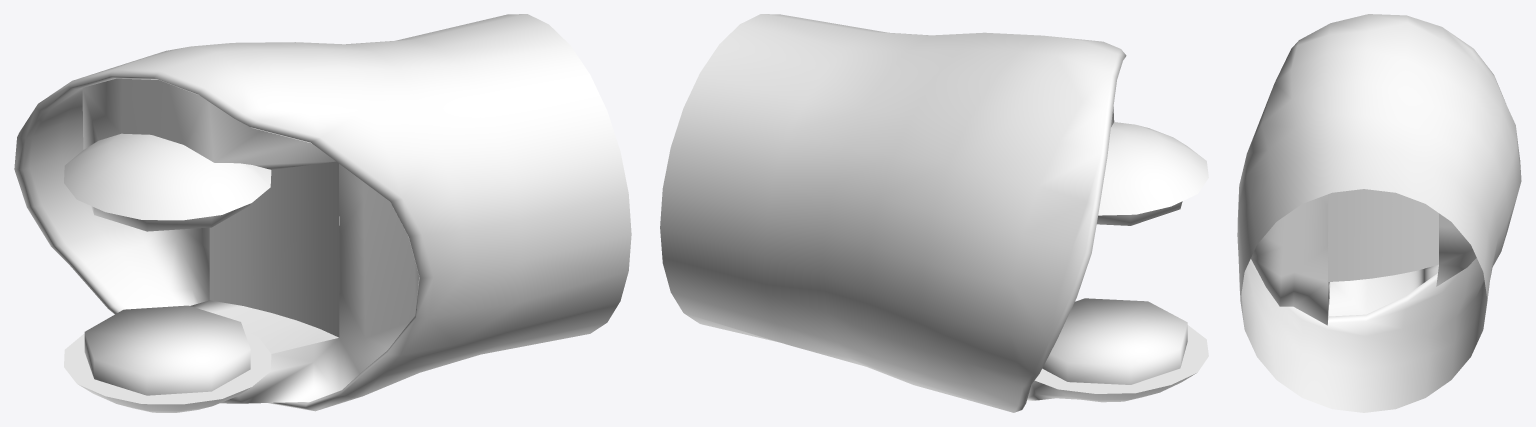
The model's file is LElbowRoll.dae.
3 renders of one model, left to right at view 1: azimuth 30°, elevation 25°; view 2: azimuth 150°, elevation 25°; view 3: azimuth 270°, elevation 25°, orthographic. The views are drawn at different scales.
Visible parts, largest first — view 1: LElbowRoll; view 2: LElbowRoll; view 3: LElbowRoll.
Boxes of the visible parts, left/top/right/bottom form: LElbowRoll: left=14, top=14, right=631, bottom=412; LElbowRoll: left=660, top=14, right=1208, bottom=412; LElbowRoll: left=1237, top=14, right=1521, bottom=412.
Bounding box in the file's own units: 0.7006 × 0.4873 × 0.5139.
Materials: 1 (1 with a texture image).
